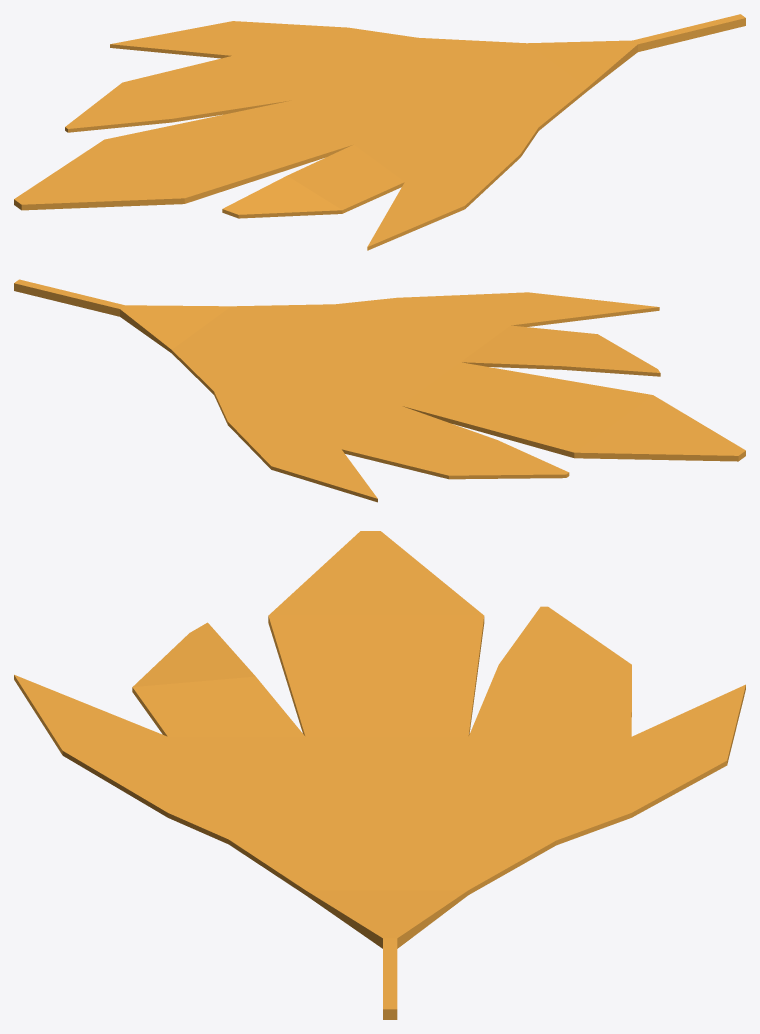
Rendered from LeafOrange.fbx.
3 views of the same model, one above another, from view 1: azimuth 30°, elevation 25°; view 2: azimuth 150°, elevation 25°; view 3: azimuth 270°, elevation 25° (orthographic). The views are drawn at different scales.
Visible parts, largest first — view 1: Cube; view 2: Cube; view 3: Cube.
Part boxes in pixels (left/top/right/bottom): Cube: left=14, top=14, right=745, bottom=250; Cube: left=14, top=279, right=745, bottom=502; Cube: left=14, top=531, right=745, bottom=1019.
Bounding box in the file's own units: 491 × 5.35 × 316.
1 material, 1 textured.
